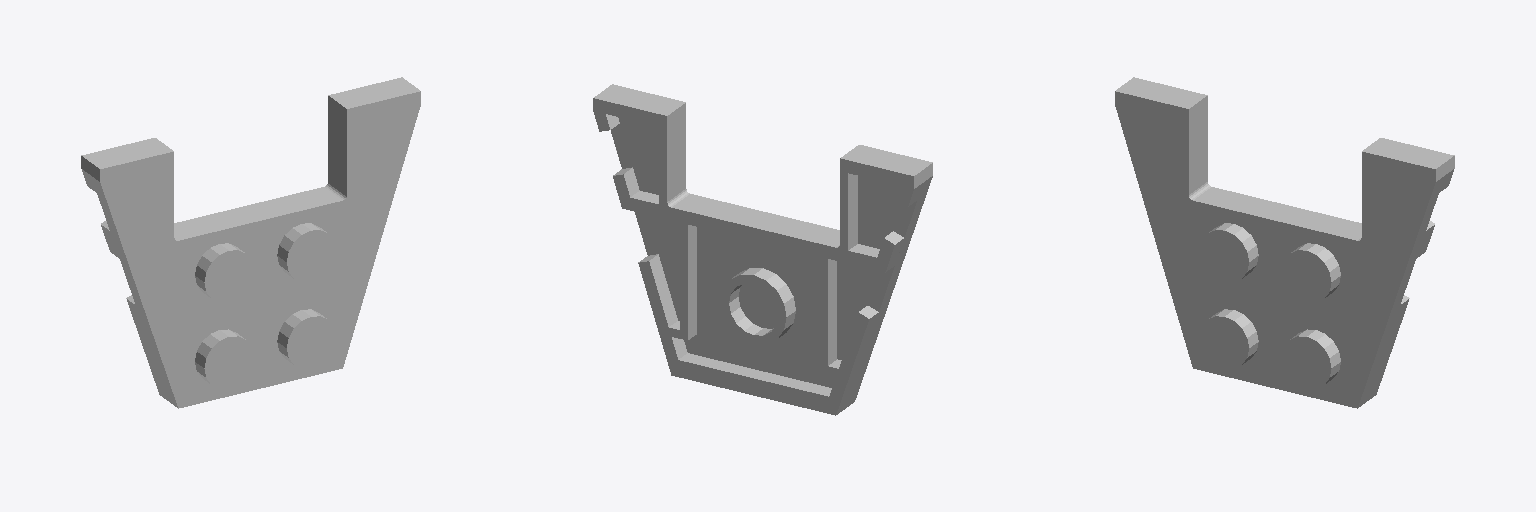
Rendered from shadowtest.obj.
3 views of the same model, side by side, from view 1: azimuth 30°, elevation 25°; view 2: azimuth 150°, elevation 25°; view 3: azimuth 330°, elevation 25° (orthographic).
Parts seen in each view (by area): view 1: Piece000; view 2: Piece000; view 3: Piece000.
Boxes of the visible parts, box(x1,y1,x2,y2) form: Piece000: box(81, 77, 420, 408); Piece000: box(593, 84, 932, 415); Piece000: box(1115, 77, 1454, 408).
Size of the model in its own units: 78 by 60 by 12.